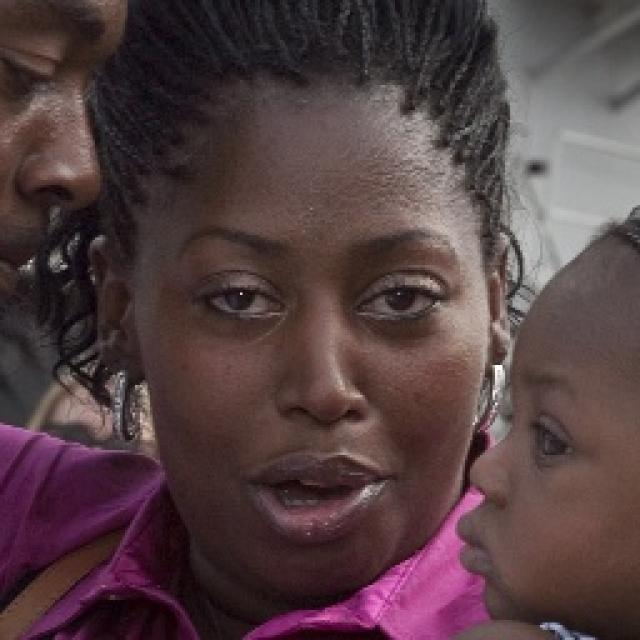earlobe: (108, 338, 146, 386), (483, 348, 510, 388)
eye: (198, 274, 286, 327), (354, 283, 447, 320), (0, 45, 55, 103), (530, 424, 577, 464)
nose: (270, 406, 370, 445), (24, 184, 66, 228), (480, 488, 506, 516)
wholeear: (85, 232, 144, 386), (484, 232, 509, 388)
